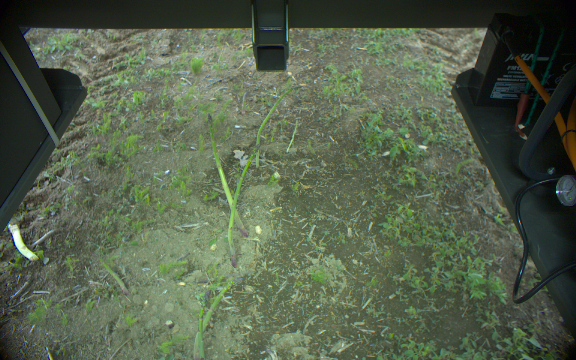aspa: (203, 113, 248, 237), (189, 278, 244, 358), (228, 142, 262, 268), (256, 86, 295, 170), (192, 289, 208, 360)
